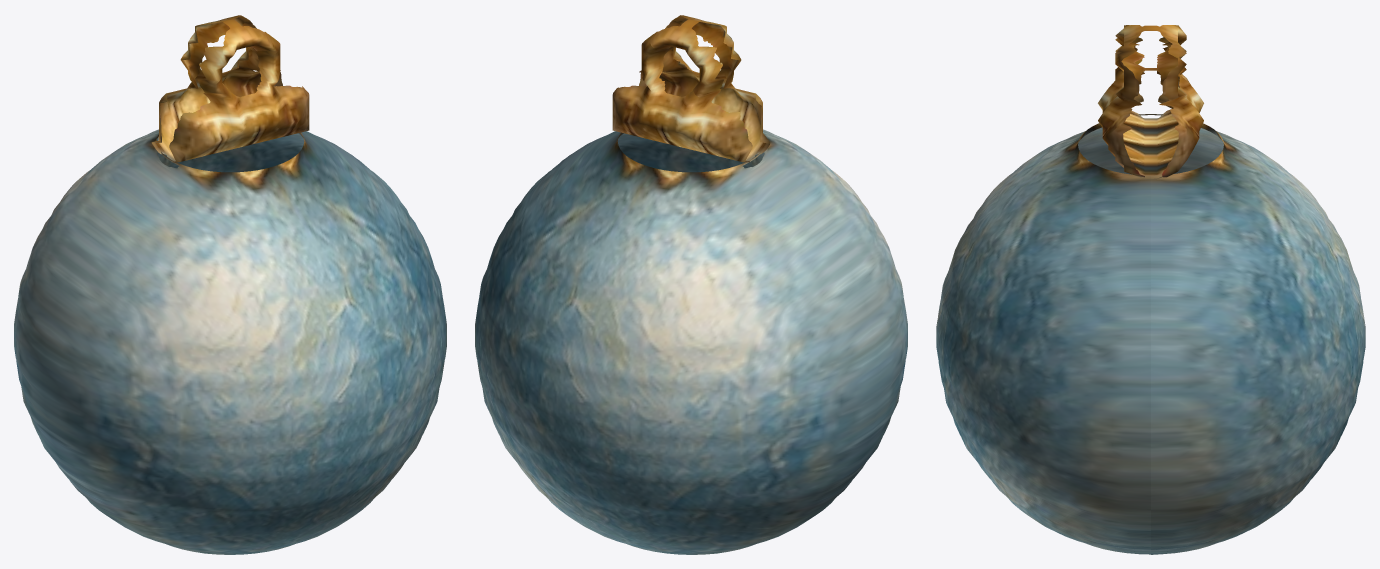
File: Item_blue.glb
The picture shows the model from 3 angles, left to right: view 1: azimuth 30°, elevation 25°; view 2: azimuth 150°, elevation 25°; view 3: azimuth 270°, elevation 25°; orthographic projection.
Visible parts, largest first — view 1: Lacquered glass.002, Item_blue carving; view 2: Lacquered glass.002, Item_blue carving; view 3: Lacquered glass.002, Item_blue carving.
Part boxes in pixels (x1,y1,x2,y2): Lacquered glass.002: (14, 129, 446, 554); Item_blue carving: (151, 15, 309, 162); Lacquered glass.002: (475, 129, 907, 554); Item_blue carving: (612, 15, 770, 162); Lacquered glass.002: (936, 114, 1365, 554); Item_blue carving: (1098, 25, 1203, 179).
Size of the model in its own units: 0.2178 by 0.2852 by 0.2178.
Materials: 1 (1 with a texture image).
